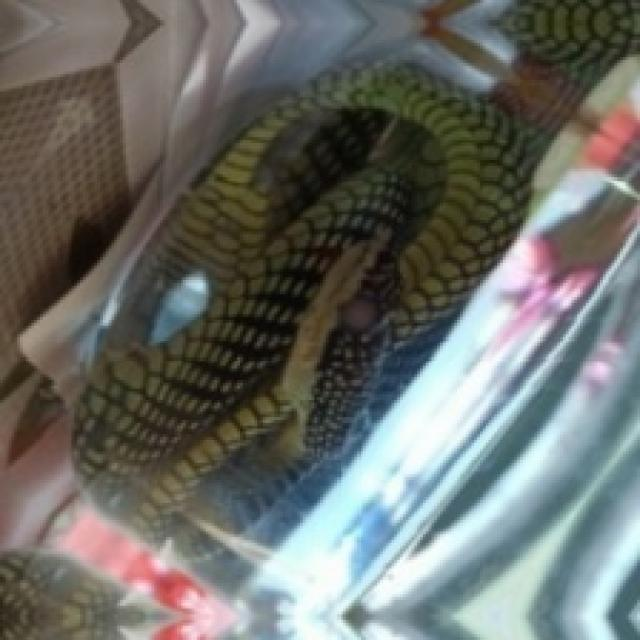paradise tree snake: (0, 0, 637, 546), (74, 0, 637, 537)
